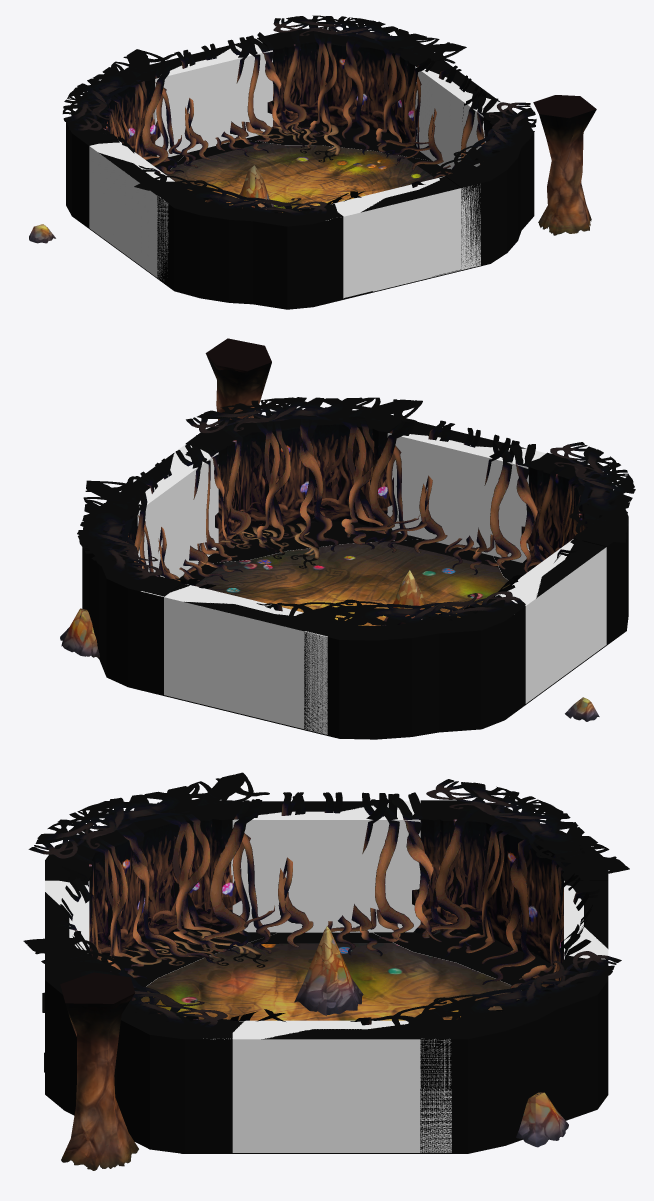
File: Dungeon_021_StartRoom_001_003.fbx
3 renders of one model, top to bottom at view 1: azimuth 30°, elevation 25°; view 2: azimuth 150°, elevation 25°; view 3: azimuth 270°, elevation 25°, orthographic. The views are drawn at different scales.
Visible parts, largest first — view 1: Dun_011_StartRoom_001_wall, DoorWay_NavMask (1) (×2), DoorWay_NavMask (×4), Dungeon_021_Tsuta_002, Dun_011_StartRoom_001_ground, un_021_Door_002_Object1 (×2), un_021_Door_002 (×4), Dungeon_021_Tsuta_001, Dungeon_011_Object_010, Dun_011_StartRoom_001_shadow, Dungeon_021_Tsuta_003, Dungeon_011_Object_011 (+1 smaller); view 2: Dun_011_StartRoom_001_wall, DoorWay_NavMask (1) (×2), DoorWay_NavMask (×4), Dungeon_021_Tsuta_002, Dun_011_StartRoom_001_ground, un_021_Door_002_Object1 (×2), un_021_Door_002 (×4), Dungeon_021_Tsuta_001, Dungeon_011_Object_010, Dun_011_StartRoom_001_shadow, Dungeon_011_Object_012, Dungeon_021_Tsuta_003 (+2 smaller); view 3: Dun_011_StartRoom_001_wall, DoorWay_NavMask (1) (×3), Dungeon_021_Tsuta_002, DoorWay_NavMask (×4), Dun_011_StartRoom_001_ground, Dungeon_021_Tsuta_001, un_021_Door_002_Object1 (×3), un_021_Door_002 (×4), Dungeon_011_Object_010, Dun_011_StartRoom_001_shadow, Dungeon_011_Object_011, Dungeon_011_Object_012 (+2 smaller).
Boxes of the visible parts, x1,y1,x2,y2 form: Dun_011_StartRoom_001_wall: [66, 30, 534, 309]; DoorWay_NavMask (1) (×2): [89, 143, 480, 298]; DoorWay_NavMask (×4): [90, 39, 507, 216]; Dungeon_021_Tsuta_002: [62, 15, 536, 218]; Dun_011_StartRoom_001_ground: [166, 142, 433, 212]; un_021_Door_002_Object1 (×2): [142, 32, 498, 178]; un_021_Door_002 (×4): [75, 32, 517, 299]; Dungeon_021_Tsuta_001: [81, 25, 522, 213]; Dungeon_011_Object_010: [533, 95, 596, 235]; Dun_011_StartRoom_001_shadow: [150, 124, 460, 298]; Dungeon_021_Tsuta_003: [255, 121, 341, 162]; Dungeon_011_Object_011: [237, 165, 274, 209]; Dun_011_StartRoom_001_wall: [82, 415, 628, 739]; DoorWay_NavMask (1) (×2): [141, 547, 606, 734]; DoorWay_NavMask (×4): [137, 433, 573, 615]; Dungeon_021_Tsuta_002: [77, 397, 635, 627]; Dun_011_StartRoom_001_ground: [195, 541, 510, 625]; un_021_Door_002_Object1 (×2): [131, 419, 545, 581]; un_021_Door_002 (×4): [99, 414, 612, 729]; Dungeon_021_Tsuta_001: [98, 409, 614, 624]; Dungeon_011_Object_010: [205, 338, 271, 424]; Dun_011_StartRoom_001_shadow: [208, 521, 533, 580]; Dungeon_011_Object_012: [60, 608, 99, 657]; Dungeon_021_Tsuta_003: [220, 523, 319, 568]; Dun_011_StartRoom_001_wall: [45, 801, 608, 1153]; DoorWay_NavMask (1) (×3): [45, 880, 608, 1152]; Dungeon_021_Tsuta_002: [23, 772, 629, 1037]; DoorWay_NavMask (×4): [45, 801, 599, 1038]; Dun_011_StartRoom_001_ground: [141, 942, 519, 1153]; Dungeon_021_Tsuta_001: [65, 800, 587, 1021]; un_021_Door_002_Object1 (×3): [53, 792, 599, 992]; un_021_Door_002 (×4): [45, 800, 608, 1153]; Dungeon_011_Object_010: [60, 972, 138, 1170]; Dun_011_StartRoom_001_shadow: [42, 932, 554, 1072]; Dungeon_011_Object_011: [294, 926, 363, 1015]; Dungeon_011_Object_012: [516, 1092, 568, 1147].
Size of what is drawn, in the model's own units: 11.98 by 2.96 by 10.
